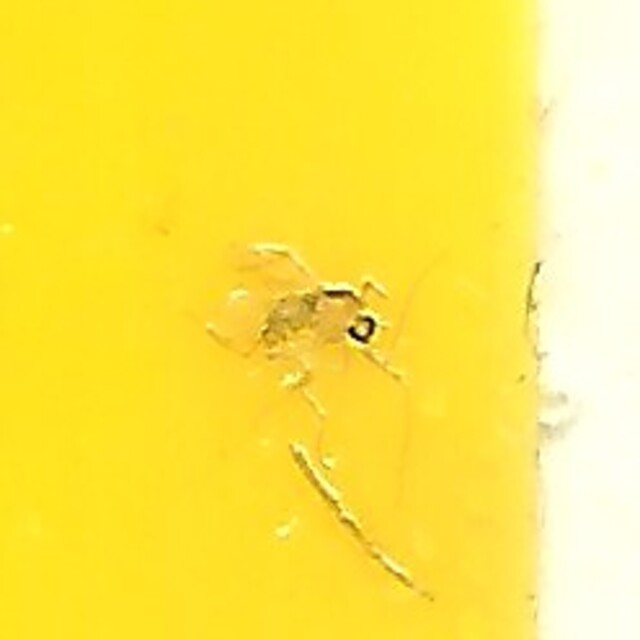Nematocera: (258, 279, 382, 361)
